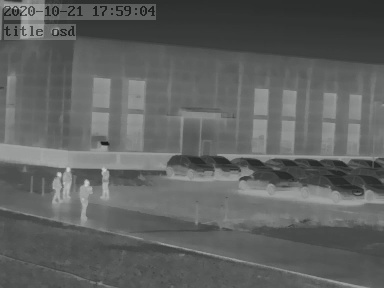person: (79, 179, 94, 216), (99, 165, 112, 198), (49, 168, 61, 202)
vehicle: (303, 173, 359, 200), (239, 169, 302, 191), (164, 153, 212, 179), (205, 153, 242, 177), (349, 173, 382, 199), (233, 154, 269, 171), (262, 155, 296, 170), (347, 156, 380, 170), (317, 156, 347, 170), (296, 155, 325, 169)
